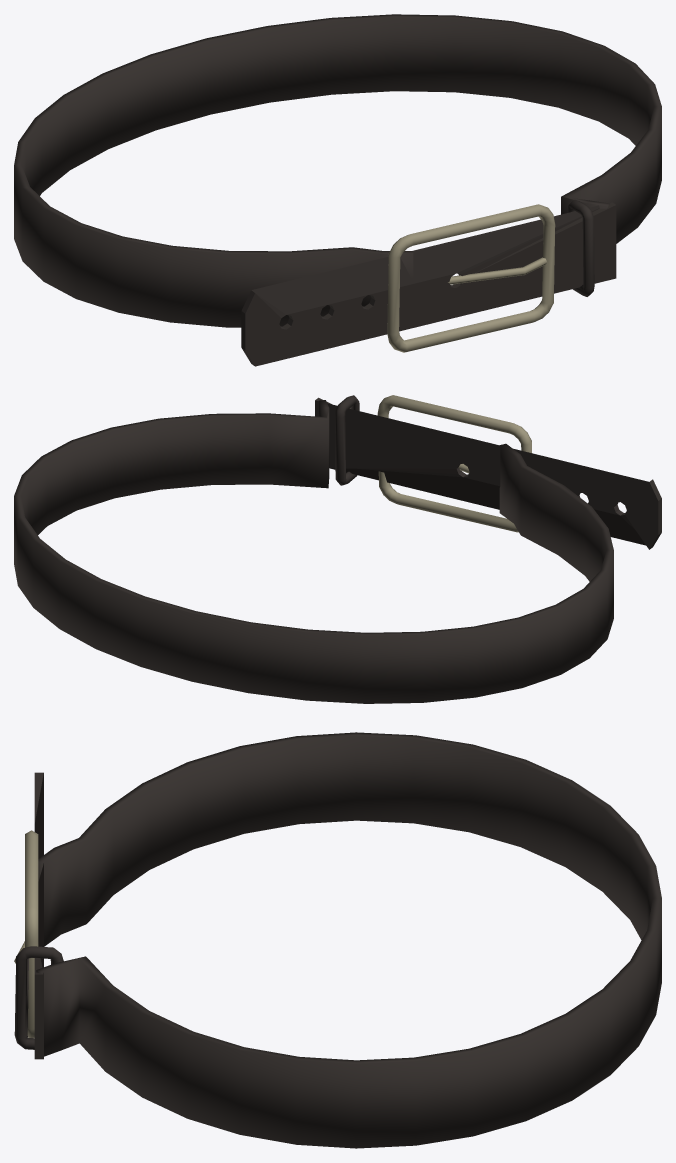
The model's file is A-NEW-20261027-WAIST-BELT-001_LOD2_R4.fbx.
The picture shows the model from 3 angles, top to bottom: view 1: azimuth 30°, elevation 25°; view 2: azimuth 150°, elevation 25°; view 3: azimuth 270°, elevation 25°; orthographic projection. The views are drawn at different scales.
Parts seen in each view (by area): view 1: continuous main waist strap, free end adjustment tongue, open rounded buckle frame, complete strap keeper, buckle prong; view 2: continuous main waist strap, free end adjustment tongue, open rounded buckle frame, complete strap keeper; view 3: continuous main waist strap, free end adjustment tongue, open rounded buckle frame, complete strap keeper.
Part boxes in pixels (x1=…): continuous main waist strap: x1=14, y1=14, x2=661, y2=327; free end adjustment tongue: x1=241, y1=202, x2=616, y2=366; open rounded buckle frame: x1=387, y1=204, x2=555, y2=352; complete strap keeper: x1=567, y1=199, x2=594, y2=296; buckle prong: x1=448, y1=257, x2=546, y2=284; continuous main waist strap: x1=14, y1=400, x2=613, y2=703; free end adjustment tongue: x1=315, y1=397, x2=661, y2=549; open rounded buckle frame: x1=377, y1=395, x2=531, y2=532; complete strap keeper: x1=335, y1=395, x2=359, y2=485; continuous main waist strap: x1=36, y1=732, x2=661, y2=1148; free end adjustment tongue: x1=34, y1=772, x2=43, y2=1059; open rounded buckle frame: x1=25, y1=830, x2=38, y2=1038; complete strap keeper: x1=14, y1=946, x2=63, y2=1049.
Bounding box in the file's own units: 30.35 × 5.8 × 25.05.
